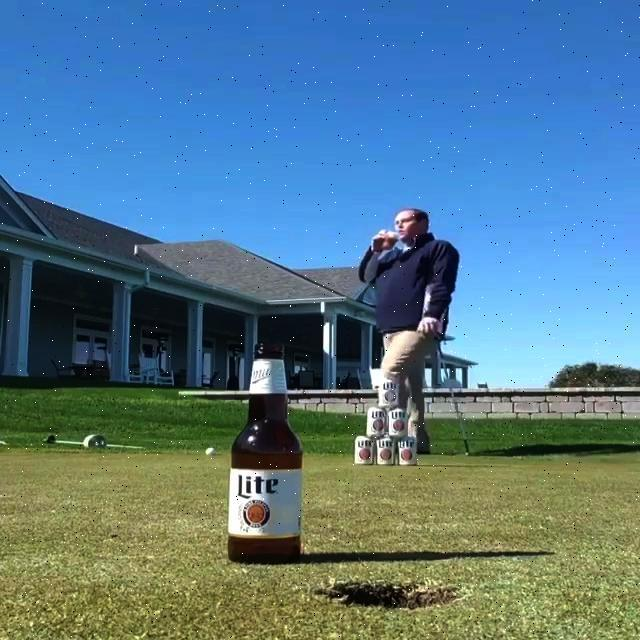ClubHead: (435, 336, 455, 341)
GolfBall: (205, 448, 215, 455)
